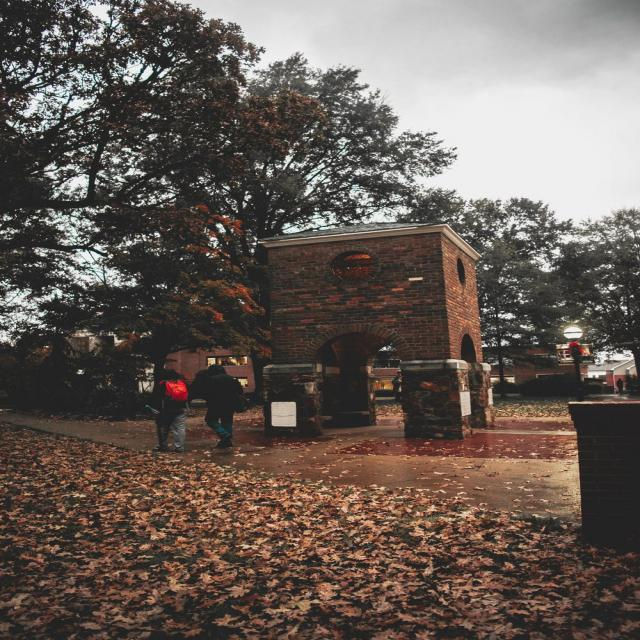organic waste: (9, 454, 200, 630), (217, 520, 510, 630)
